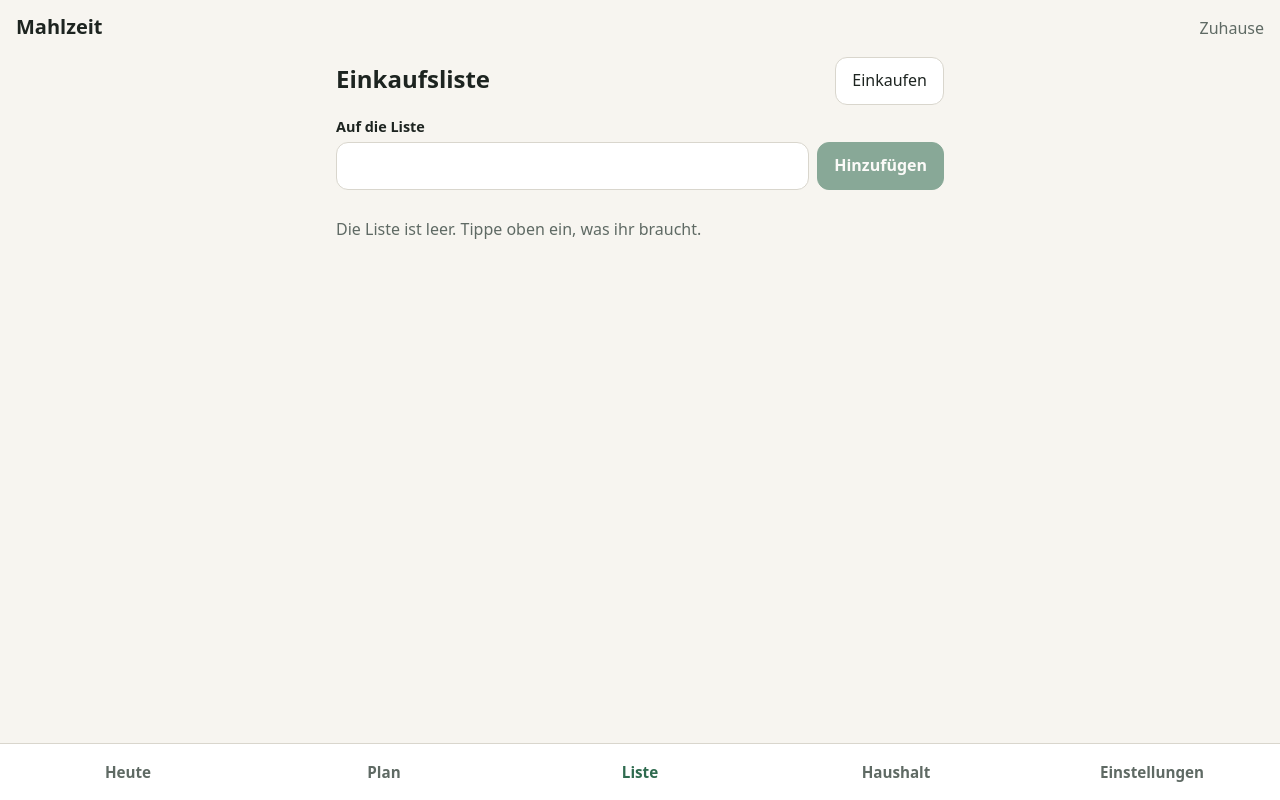
Test: shopping list › adds with one field and sends the text to be split on the server
Type "2 Milch" into the field labelled "Auf die Liste" at (573, 166), box x1=336 y1=142 x2=809 y2=190
Then press Enter
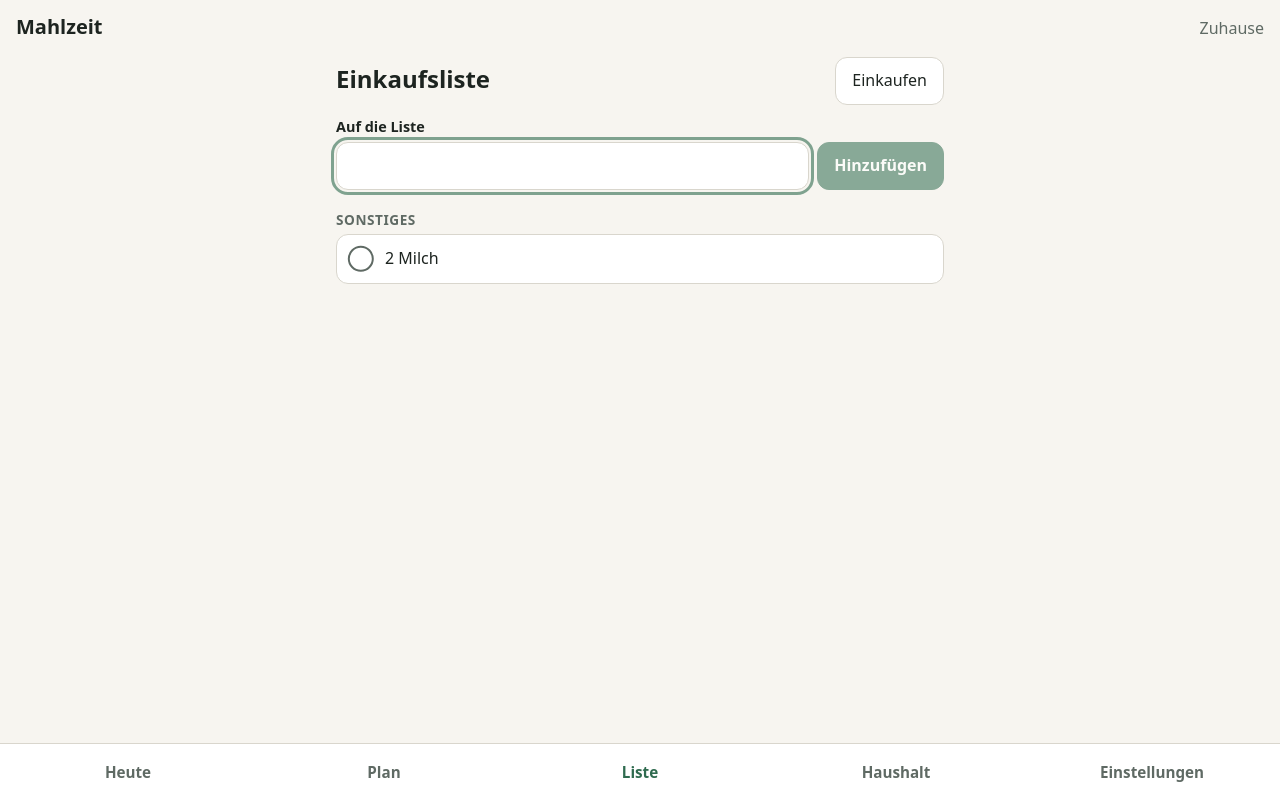
Now the checkbox named "2 Milch" is shown, box x1=337 y1=235 x2=385 y2=283
